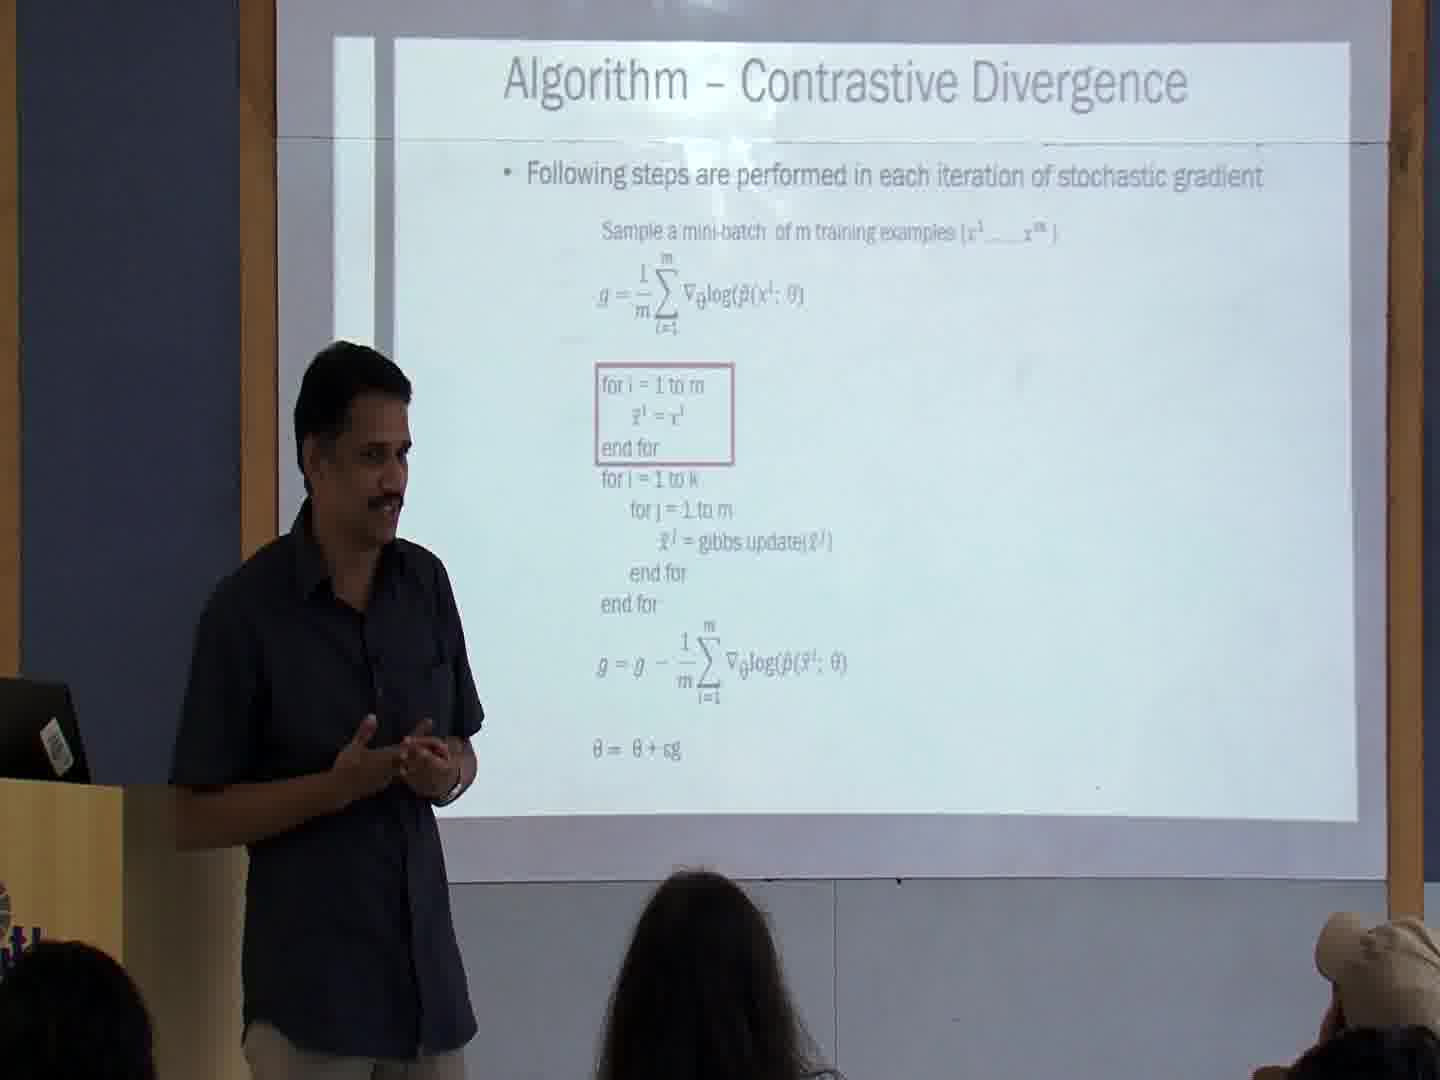eq: (590, 617, 856, 712), (591, 250, 814, 340), (588, 731, 692, 770)
